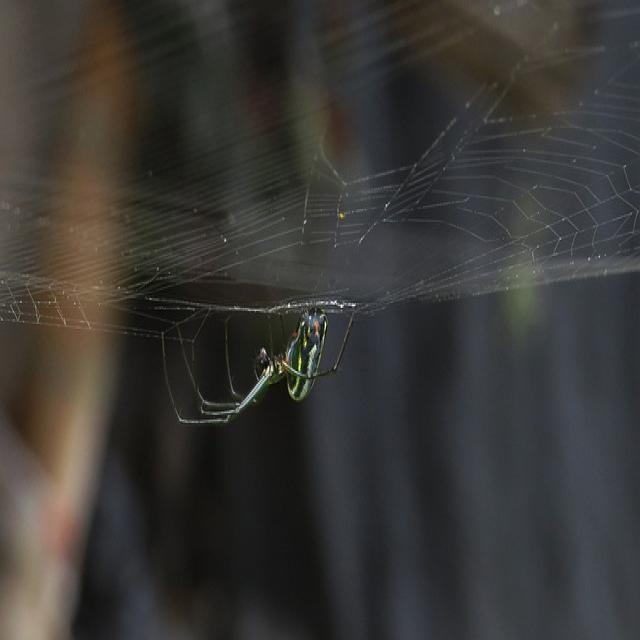spyder: (162, 310, 352, 424)
